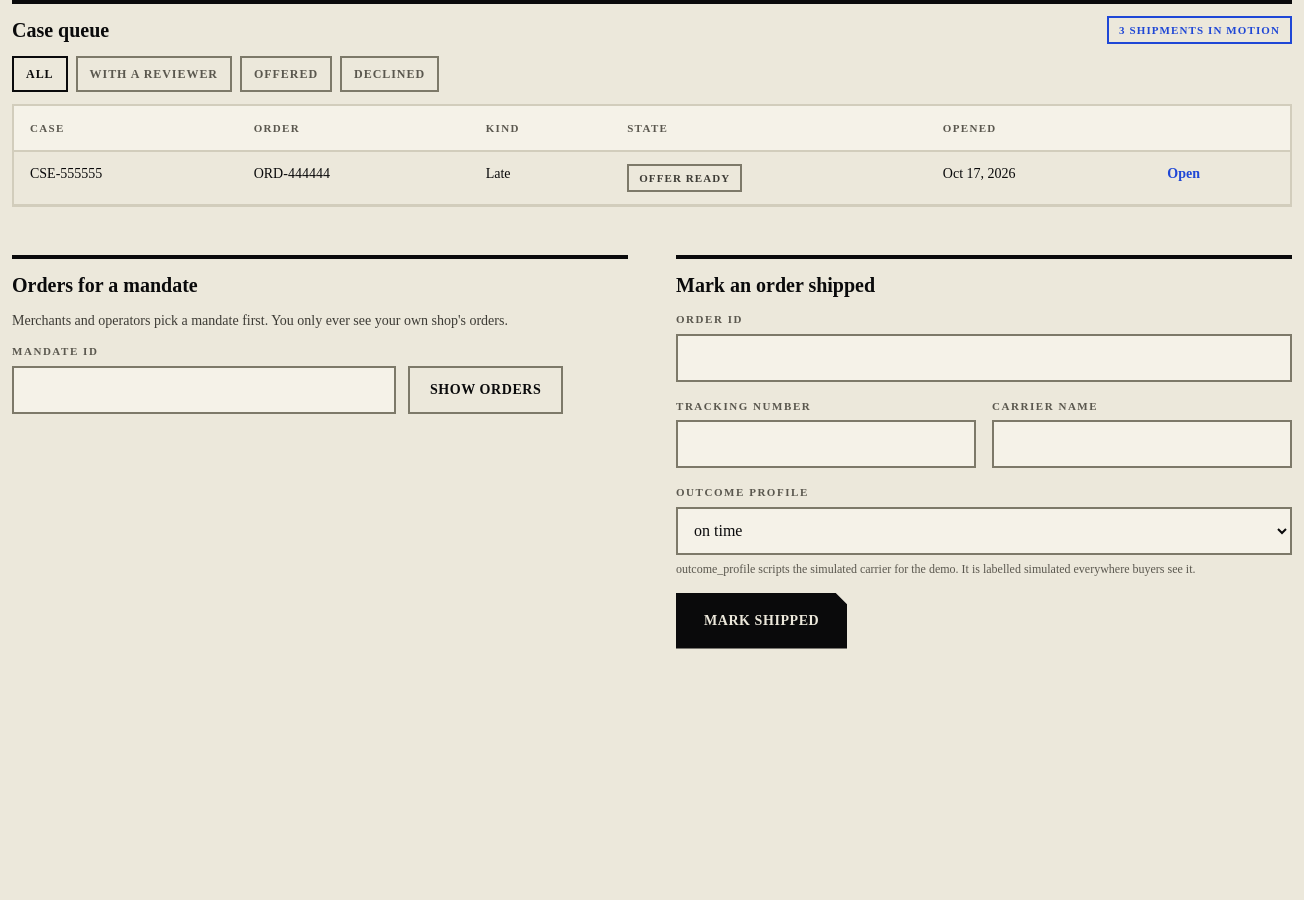
MerchantDesk › asks for a mandate before listing orders, then fills the ship form from a row
Type "nope" into the field labelled "Mandate id" at x=204, y=390, box 12,366 -> 396,414
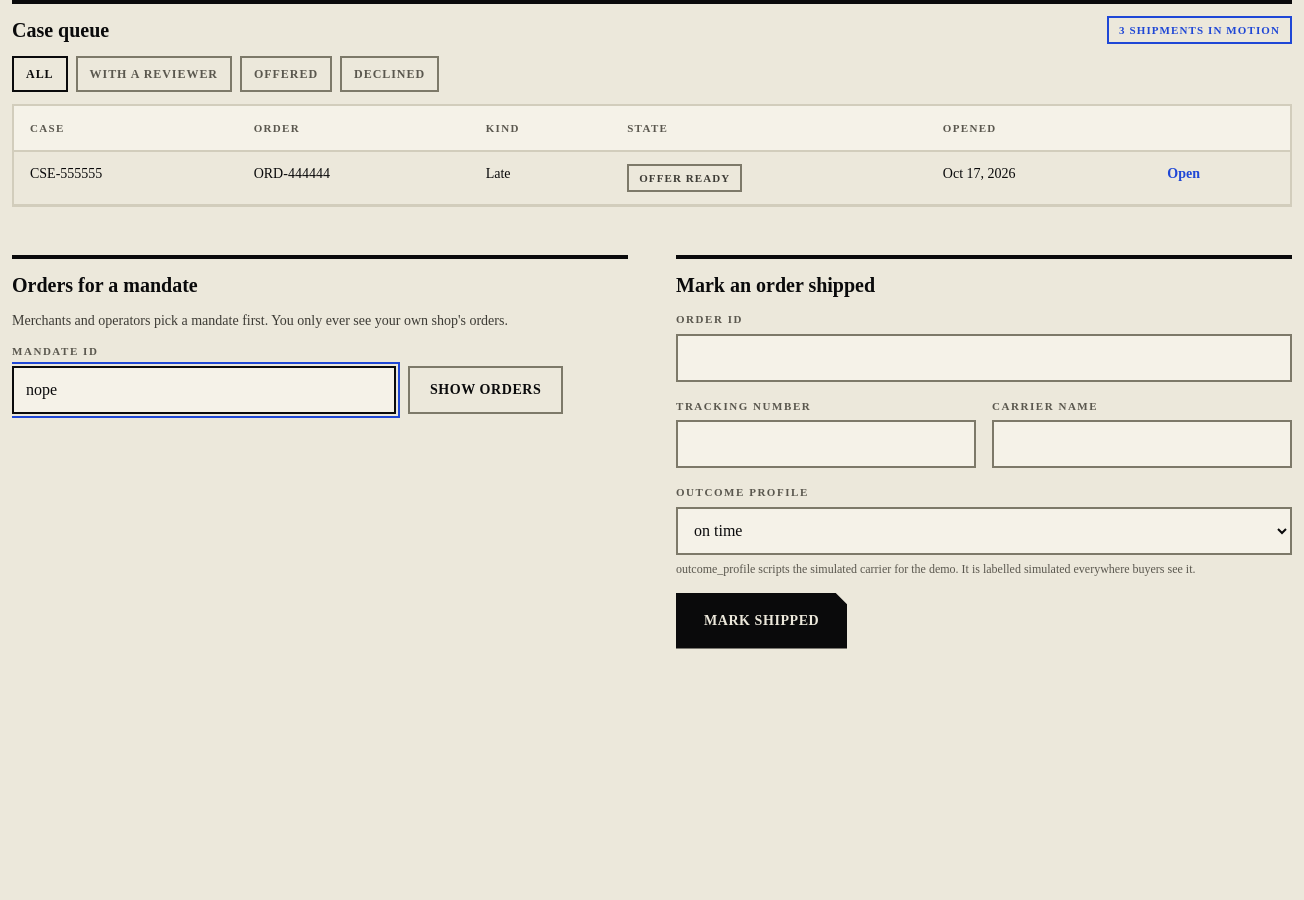
Click the button "Show orders" at x=486, y=390, box 408,366 -> 563,414
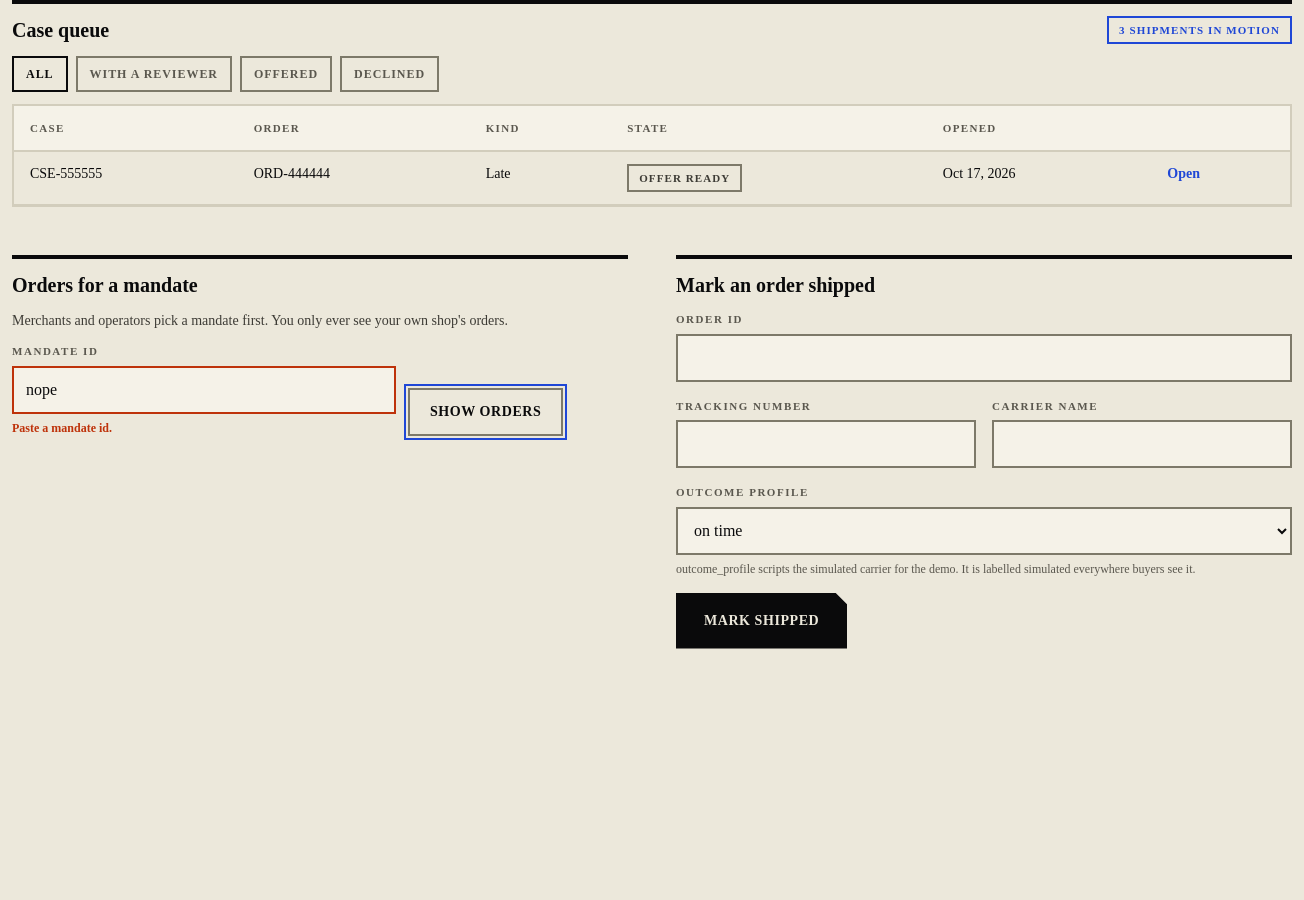
Expected: the text "Paste a mandate id." is shown, 12,420 -> 112,434
Replace the text in the field labelled "Mandate id" with "22222222-2222-4222-8222-222222222222" at x=204, y=390, box 12,366 -> 396,414
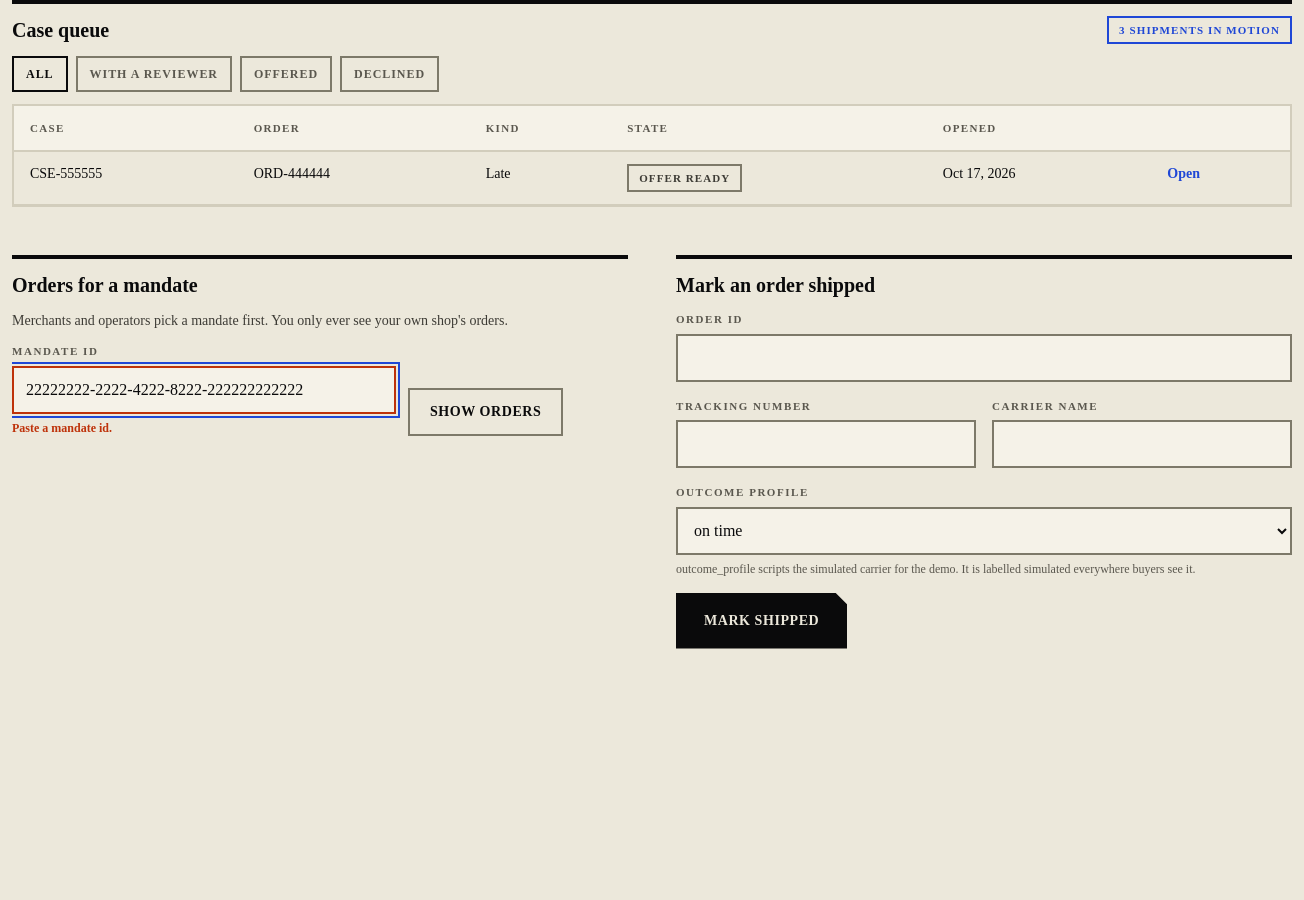
Click the button "Show orders" at x=486, y=412, box 408,388 -> 563,436
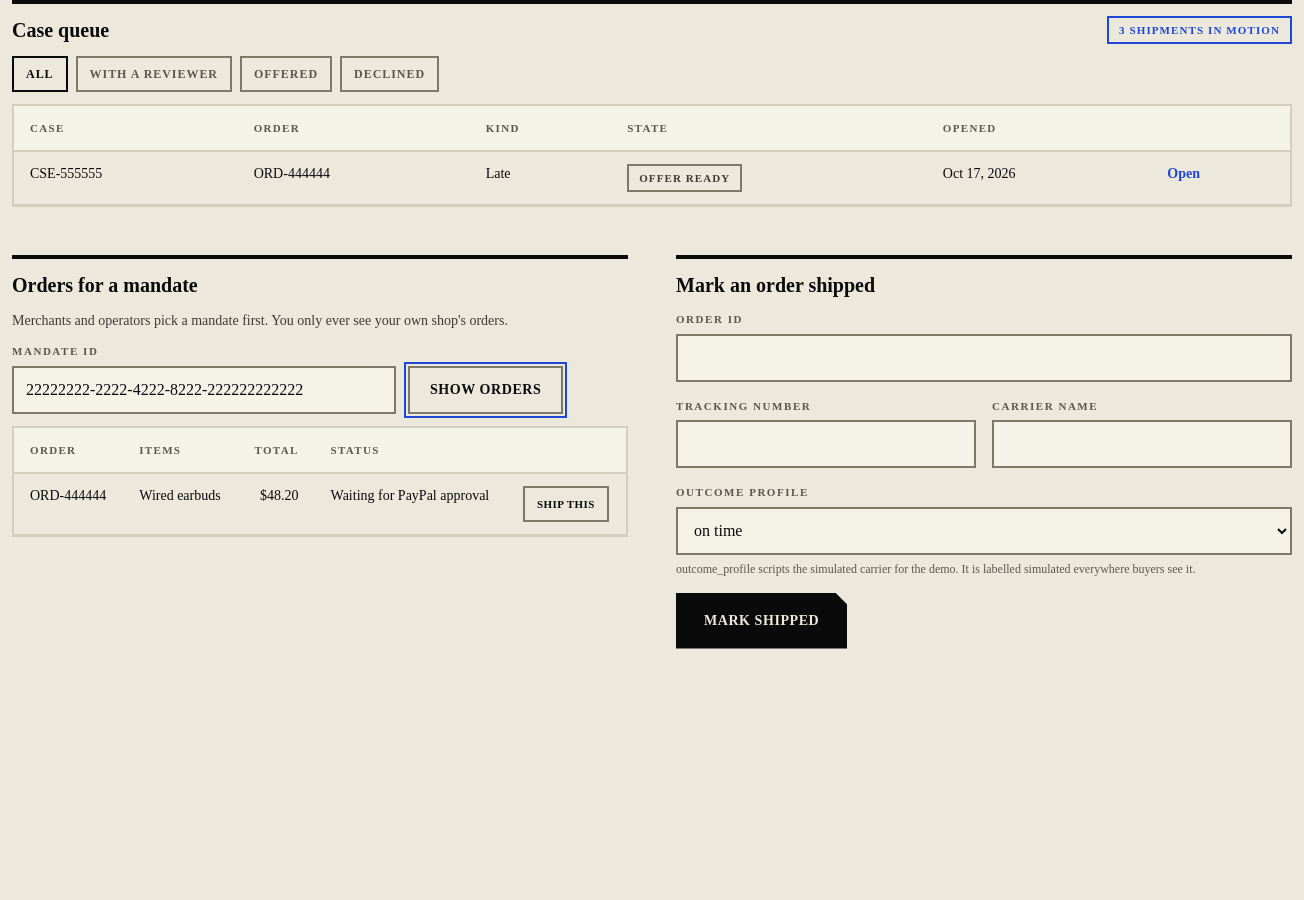
Click the button "Ship this" at x=566, y=504, box 523,486 -> 609,522
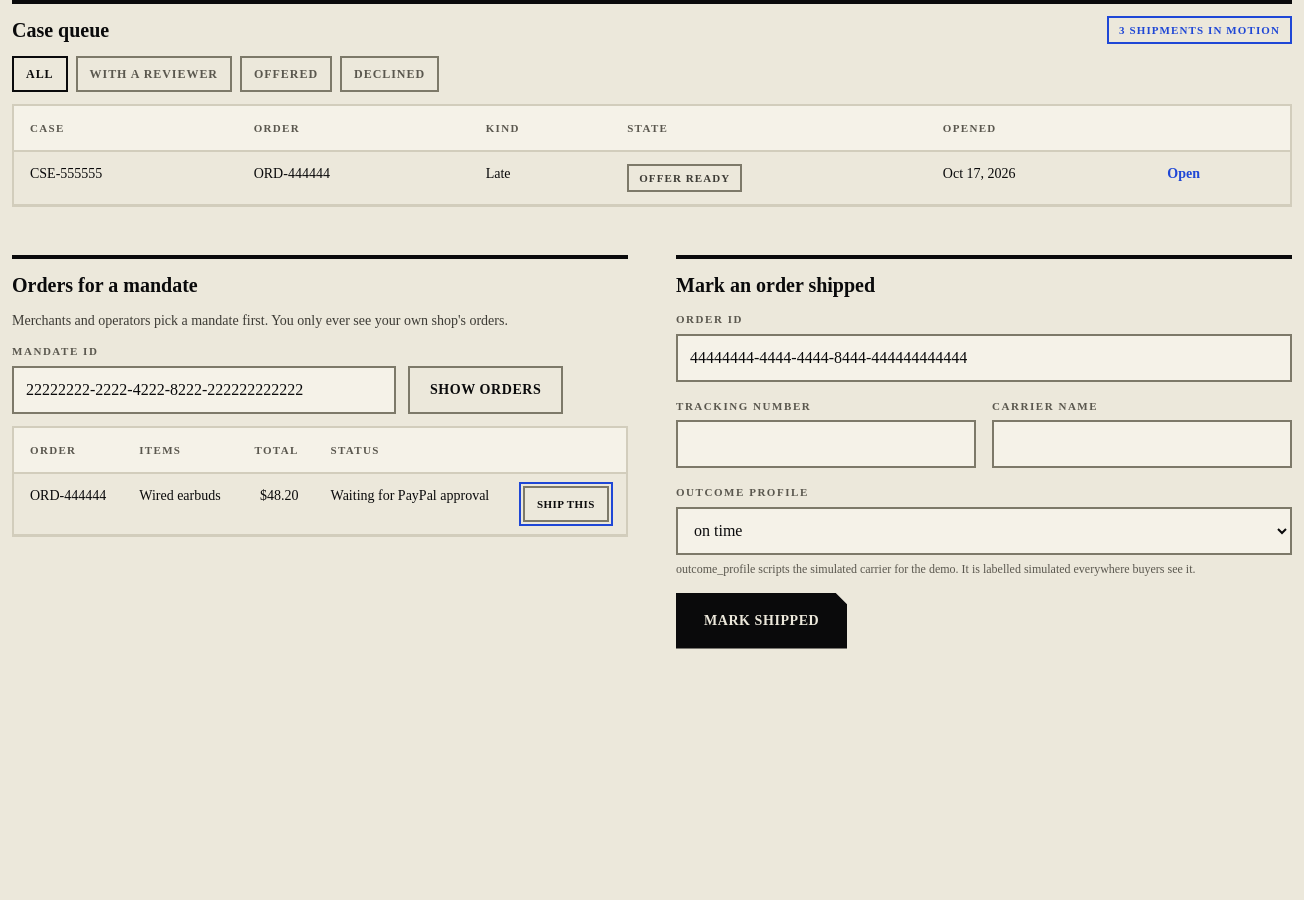
Expected: the field labelled "Order id" holds "44444444-4444-4444-8444-444444444444", 676,334 -> 1292,382
